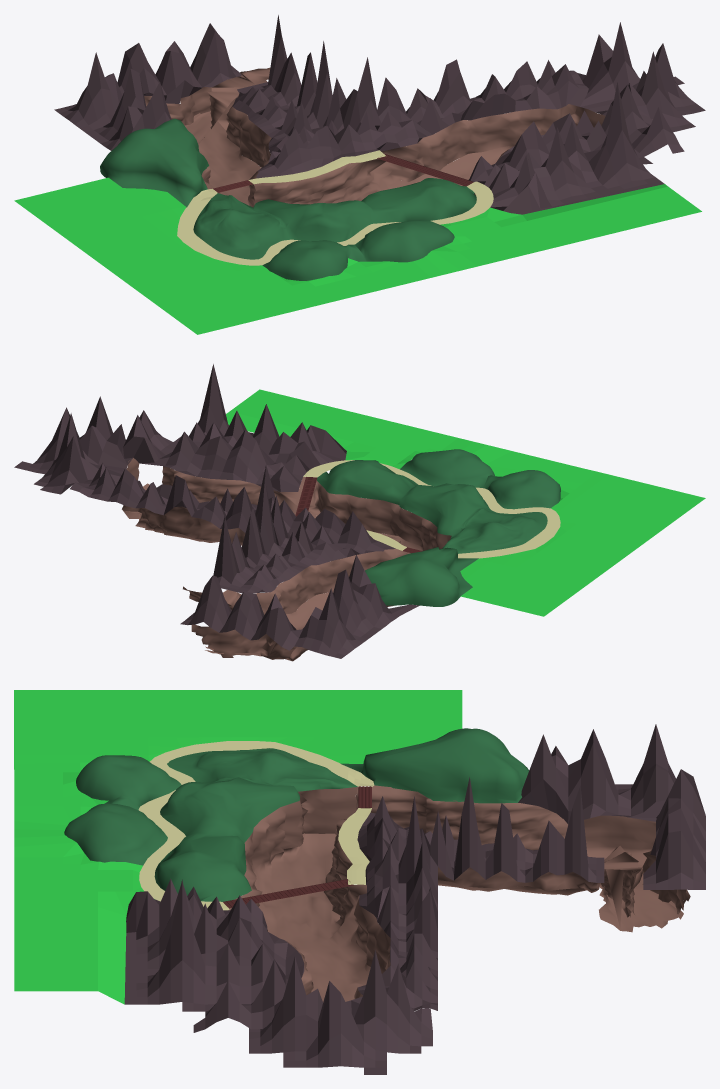
File: ColoredForestTrack.fbx
The picture shows the model from 3 angles, top to bottom: view 1: azimuth 30°, elevation 25°; view 2: azimuth 150°, elevation 25°; view 3: azimuth 270°, elevation 25°; orthographic projection. The views are drawn at different scales.
Parts seen in each view (by area): view 1: Mountains, OutterMapGround, Hills, Cliff., Track; view 2: Mountains, OutterMapGround, Hills, Cliff., Track; view 3: Mountains, OutterMapGround, Cliff., Hills, Track.
Part boxes in pixels (x1=…): Mountains: x1=54, y1=15, x2=705, y2=214; OutterMapGround: x1=14, y1=177, x2=701, y2=334; Hills: x1=100, y1=118, x2=476, y2=280; Cliff.: x1=144, y1=67, x2=605, y2=207; Track: x1=177, y1=150, x2=493, y2=265; Mountains: x1=14, y1=364, x2=419, y2=658; OutterMapGround: x1=226, y1=389, x2=705, y2=616; Hills: x1=317, y1=449, x2=560, y2=606; Cliff.: x1=122, y1=458, x2=451, y2=661; Track: x1=295, y1=460, x2=560, y2=558; Mountains: x1=124, y1=724, x2=705, y2=1074; OutterMapGround: x1=14, y1=690, x2=462, y2=1004; Cliff.: x1=223, y1=785, x2=690, y2=1002; Hills: x1=64, y1=728, x2=529, y2=901; Track: x1=138, y1=741, x2=374, y2=910.
Bounding box in the file's own units: 2212 × 451 × 1721.
